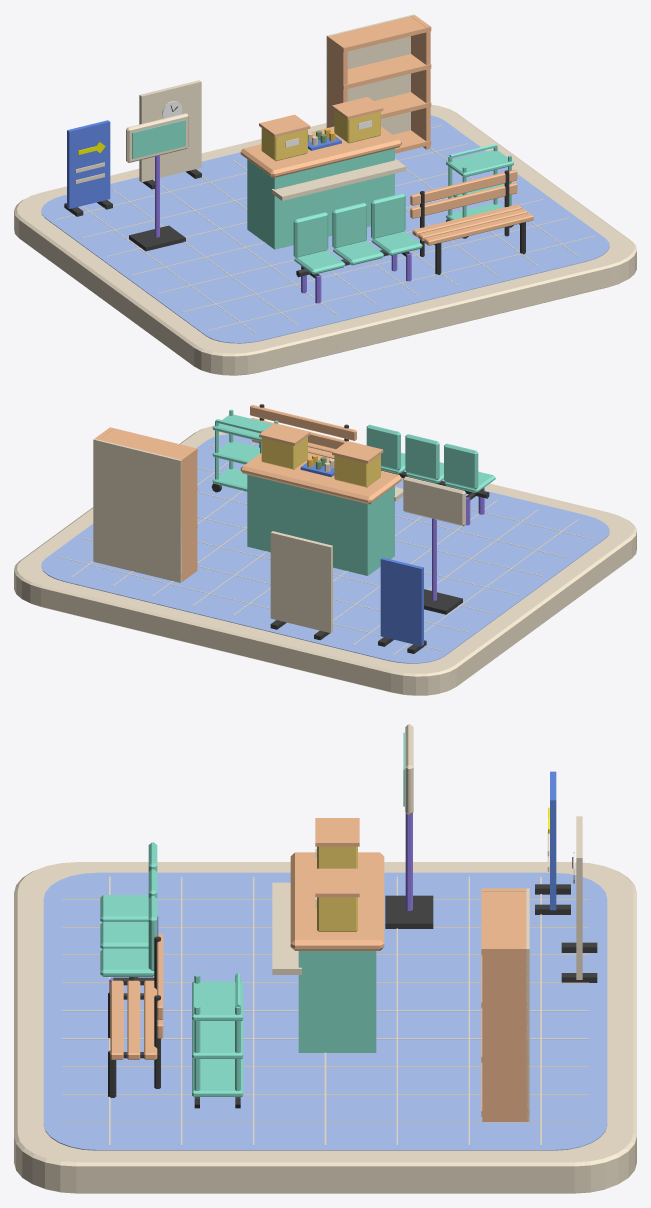
File: room.fbx
The picture shows the model from 3 angles, top to bottom: view 1: azimuth 30°, elevation 25°; view 2: azimuth 150°, elevation 25°; view 3: azimuth 270°, elevation 25°; orthographic projection. The views are drawn at different scales.
Visible parts, largest first — view 1: COM-02 Floor Surface, COM-01 Rounded Base Direct, Counter body, Panel.001, Panel, Back.003, Countertop, Side.001, Visitor shelf, Shelf.003, Shelf.002, Inset (+21 smaller); view 2: COM-02 Floor Surface, COM-01 Rounded Base Direct, Back.003, Counter body, Panel.001, Panel, Countertop, Sign panel, Side, Back, Back.001, Shelf.003 (+11 smaller); view 3: COM-02 Floor Surface, COM-01 Rounded Base Direct, Counter body, Side.001, Countertop, Shelf.003, Visitor shelf, Tray.002, Tray, Tray.001, Foot, Seat.002 (+14 smaller).
Part boxes in pixels (x1,y1,x2,y2): COM-02 Floor Surface: (41,115,609,343); COM-01 Rounded Base Direct: (14,104,636,375); Counter body: (247,148,394,249); Panel.001: (139,80,201,182); Panel: (67,120,110,208); Back.003: (326,14,414,134); Countertop: (240,126,401,177); Side.001: (411,15,430,149); Visitor shelf: (271,159,406,200); Shelf.003: (327,16,431,52); Shelf.002: (329,54,431,89); Inset: (132,120,185,158); COM-02 Floor Surface: (41,434,609,663); COM-01 Rounded Base Direct: (14,425,636,695); Back.003: (93,438,181,582); Counter body: (247,474,394,575); Panel.001: (270,531,332,633); Panel: (380,557,423,646); Countertop: (240,452,401,504); Sign panel: (403,476,465,526); Side: (178,447,197,581); Back: (444,443,478,489); Back.001: (405,434,439,479); Shelf.003: (99,427,197,463); COM-02 Floor Surface: (43,872,607,1150); COM-01 Rounded Base Direct: (14,862,636,1193); Counter body: (298,951,376,1052); Side.001: (482,946,527,1121); Countertop: (290,852,384,950); Shelf.003: (481,888,529,955); Visitor shelf: (272,882,301,974); Tray.002: (192,981,243,1020); Tray: (192,1058,243,1096); Tray.001: (192,1020,243,1058); Foot: (385,895,433,928); Seat.002: (100,948,154,976).
Bounding box in the file's own units: 600 × 190 × 520.
